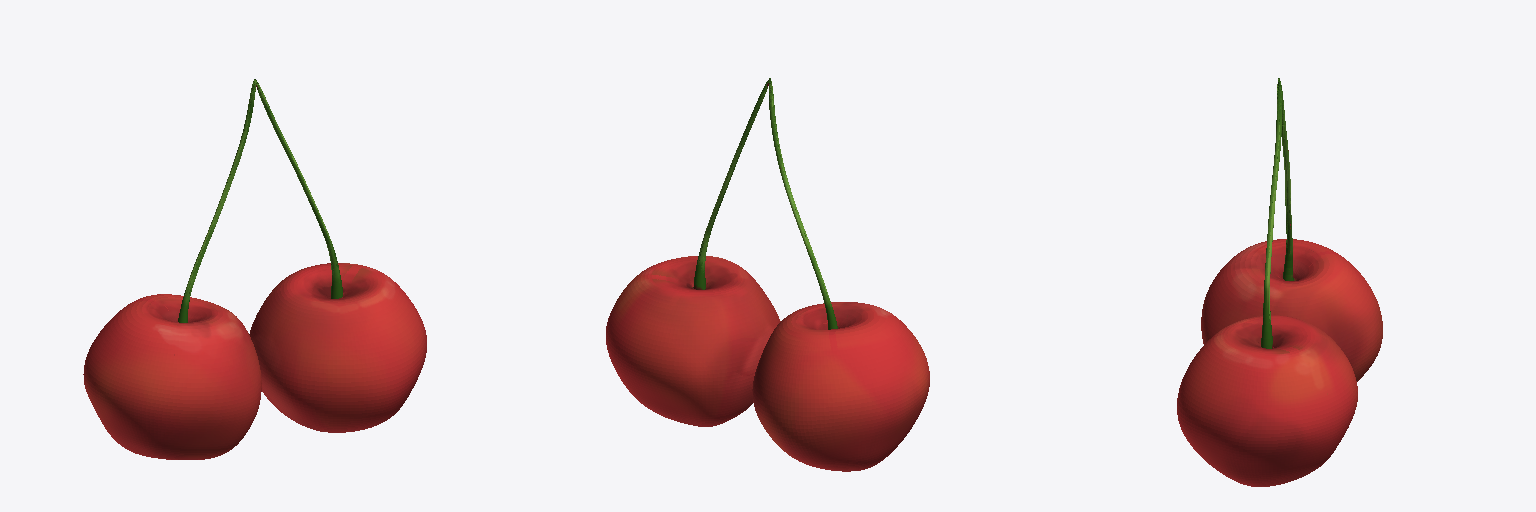
3 views of the same model, side by side, from view 1: azimuth 30°, elevation 25°; view 2: azimuth 150°, elevation 25°; view 3: azimuth 270°, elevation 25° (orthographic).
Visible parts, largest first — view 1: Cherry; view 2: Cherry; view 3: Cherry.
Boxes of the visible parts, box(x1,y1,x2,y2) form: Cherry: box(83, 79, 426, 459); Cherry: box(606, 78, 929, 471); Cherry: box(1177, 78, 1382, 486).
Size of the model in its own units: 3.81 by 4.18 by 2.19.
Materials: 1 (1 with a texture image).